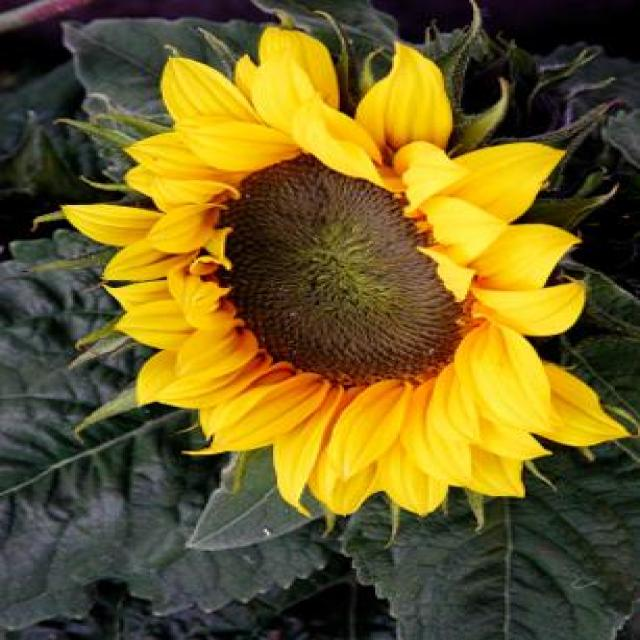sunflower: (59, 12, 639, 530)
